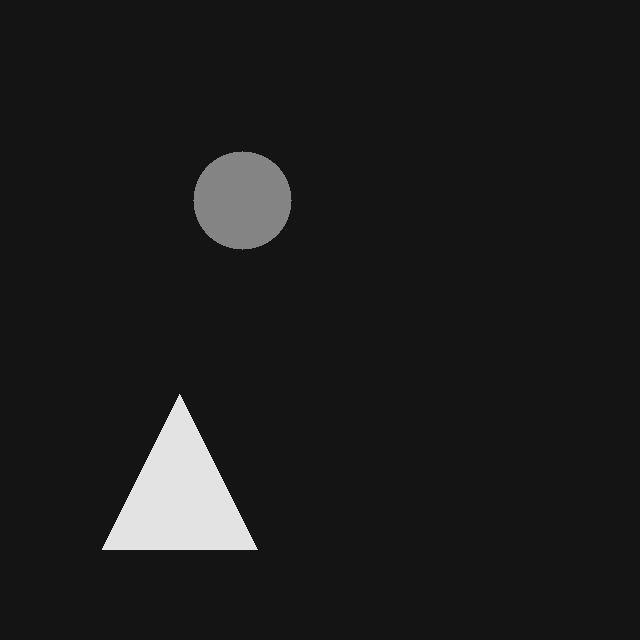circle: (193, 151, 291, 249)
triangle: (102, 394, 257, 549)
